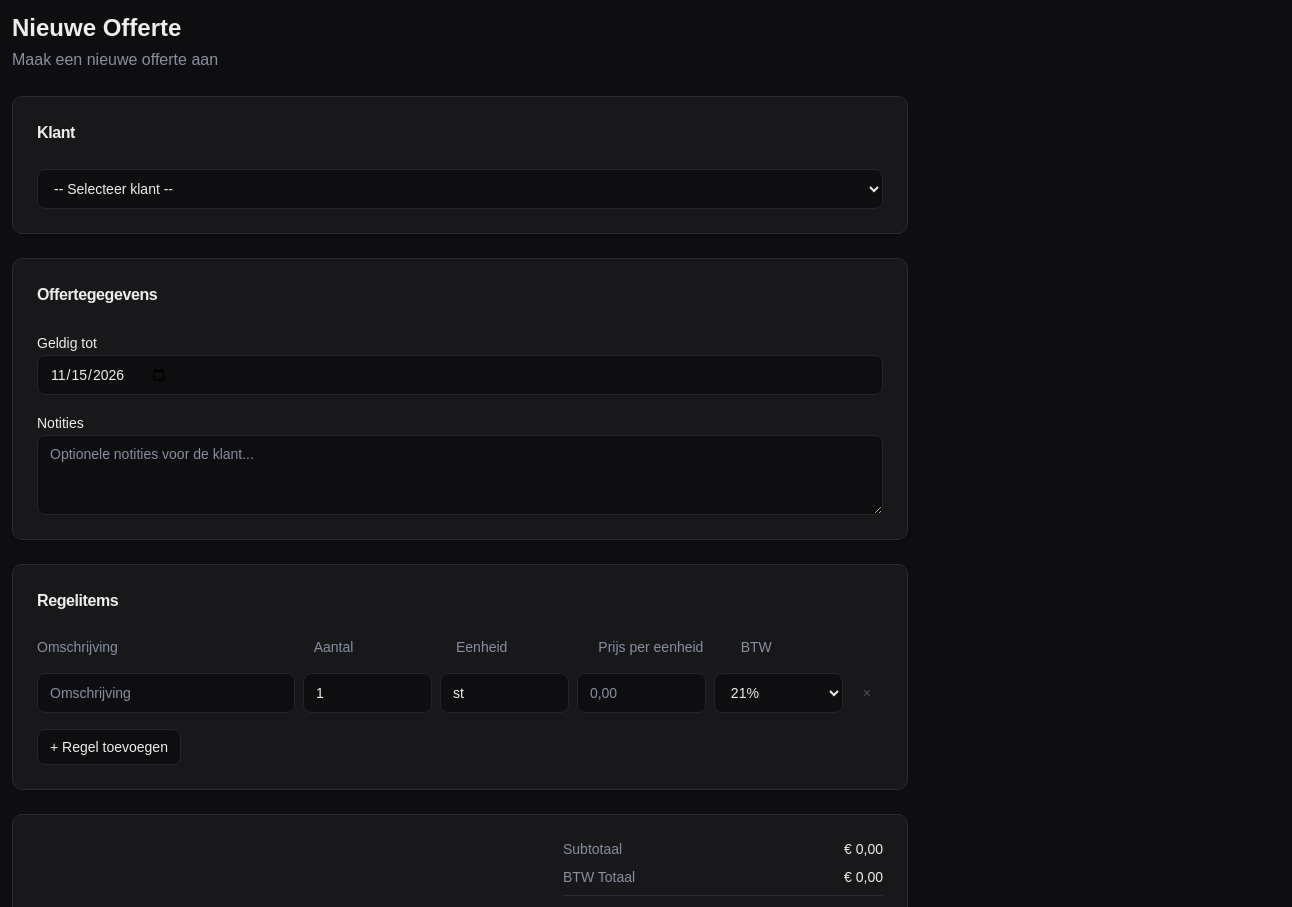
QuoteCreatePage › auto-calculates totals when line fields are filled
Type "2" into the number field with test id "line-qty-0" at (367, 693), box [303,673,432,713]
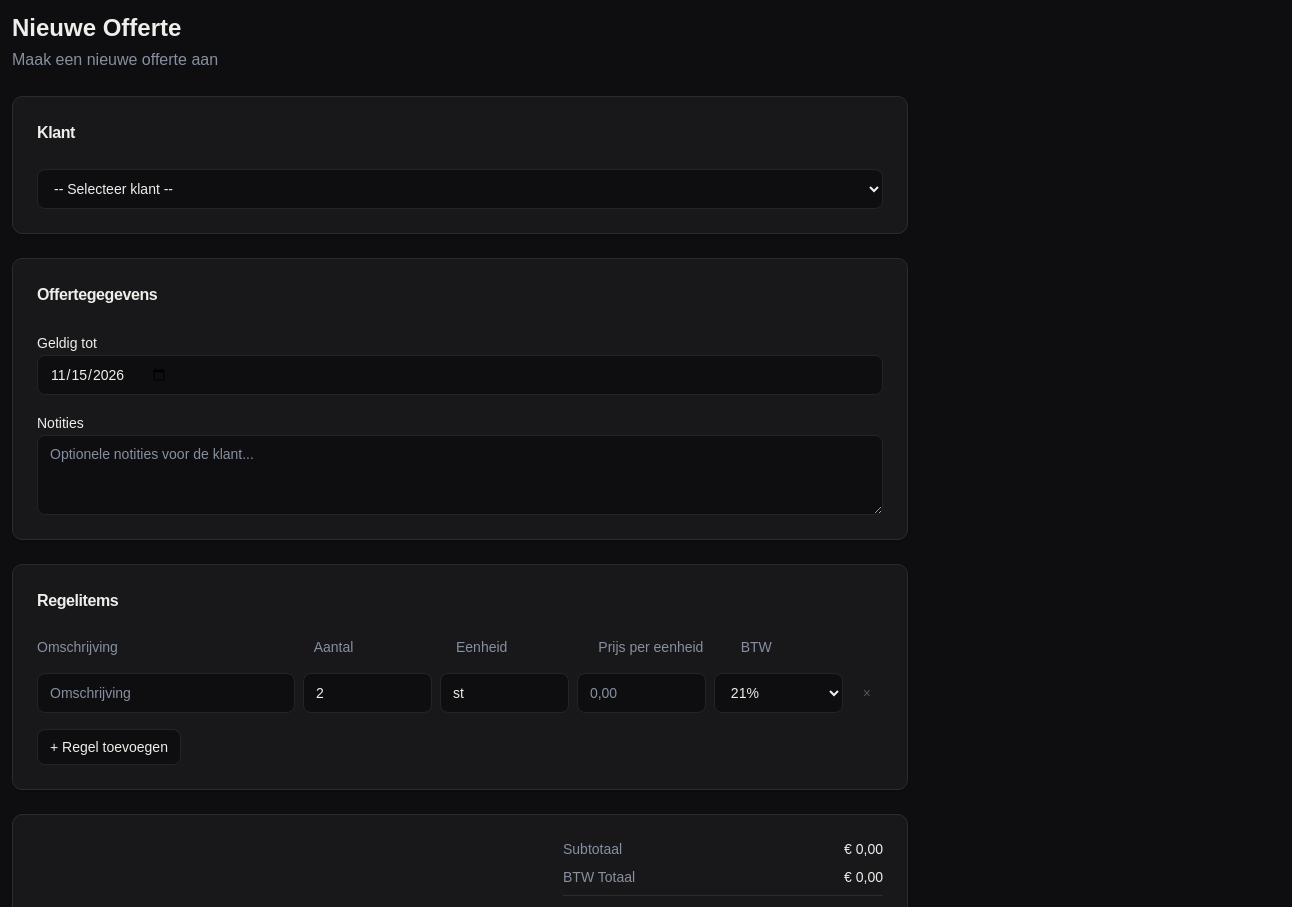
Type "50" into the number field with test id "line-price-0" at (641, 693), box [577,673,706,713]
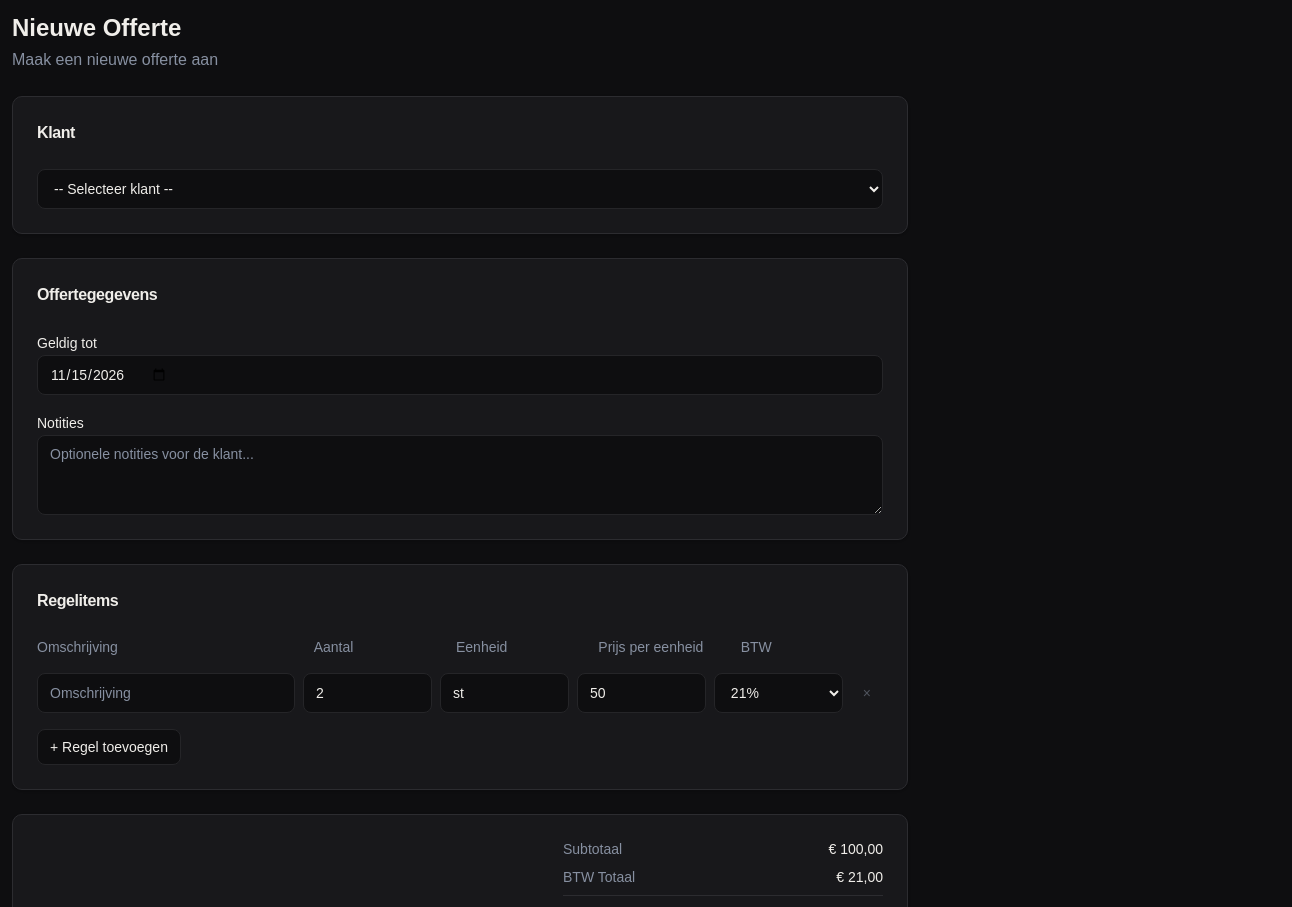
Result: the text with test id "summary-subtotal" shows "100" at [828,841,883,857]
